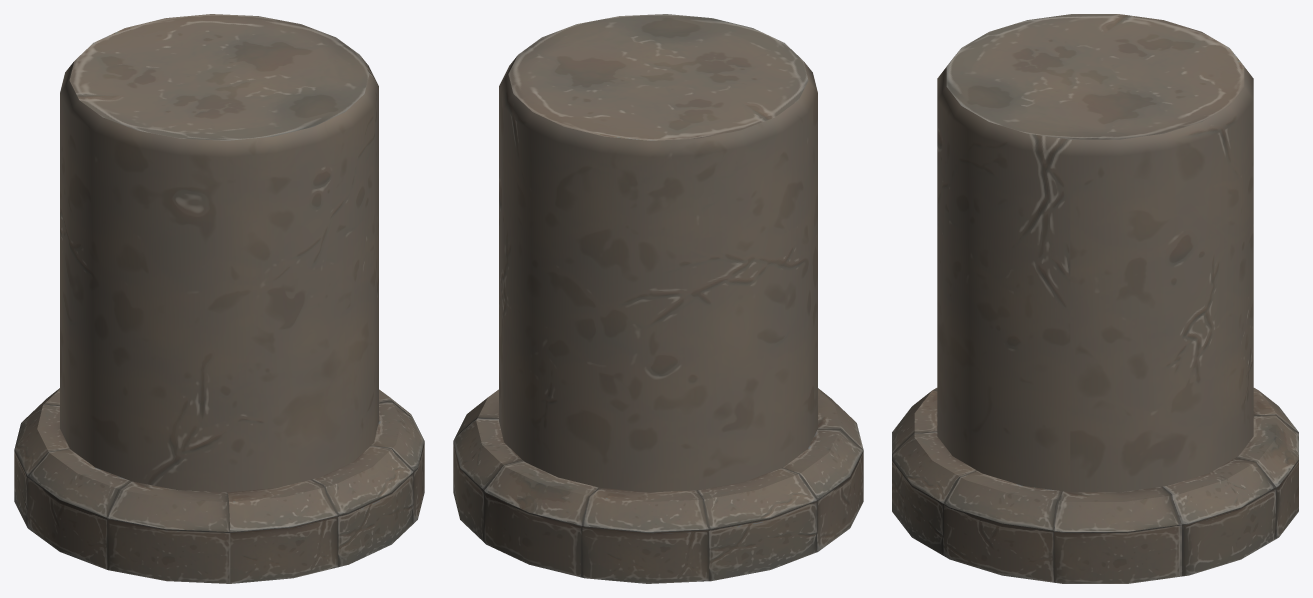
The model's file is Ruins_PillarBottom_Intact_01a.fbx.
The picture shows the model from 3 angles, left to right: view 1: azimuth 30°, elevation 25°; view 2: azimuth 150°, elevation 25°; view 3: azimuth 270°, elevation 25°; orthographic projection.
Parts seen in each view (by area): view 1: Ruins_PillarBottom_Intact_01a; view 2: Ruins_PillarBottom_Intact_01a; view 3: Ruins_PillarBottom_Intact_01a.
Part boxes in pixels (left/top/right/bottom): Ruins_PillarBottom_Intact_01a: left=14, top=14, right=424, bottom=583; Ruins_PillarBottom_Intact_01a: left=453, top=14, right=863, bottom=583; Ruins_PillarBottom_Intact_01a: left=892, top=14, right=1298, bottom=583.
Size of the model in its own units: 2.54 by 2.9 by 2.54.
1 material, 1 textured.
